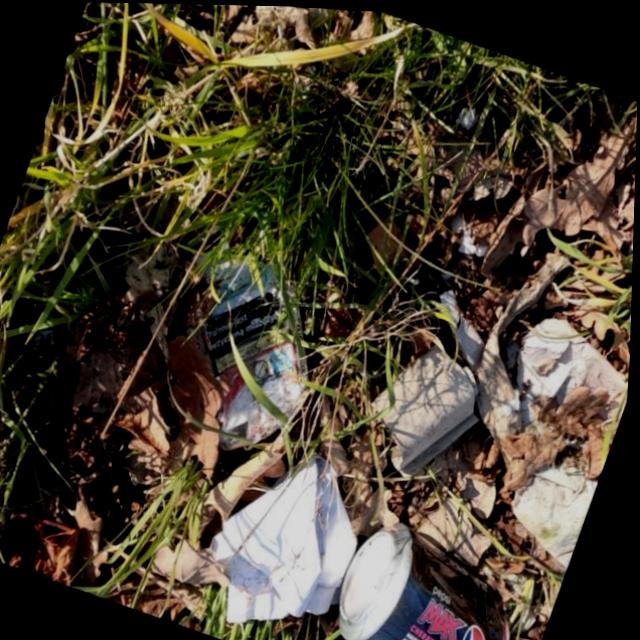Can-Metal: (339, 513, 520, 640)
Paper: (502, 311, 633, 568), (180, 240, 320, 453), (206, 445, 366, 628)
